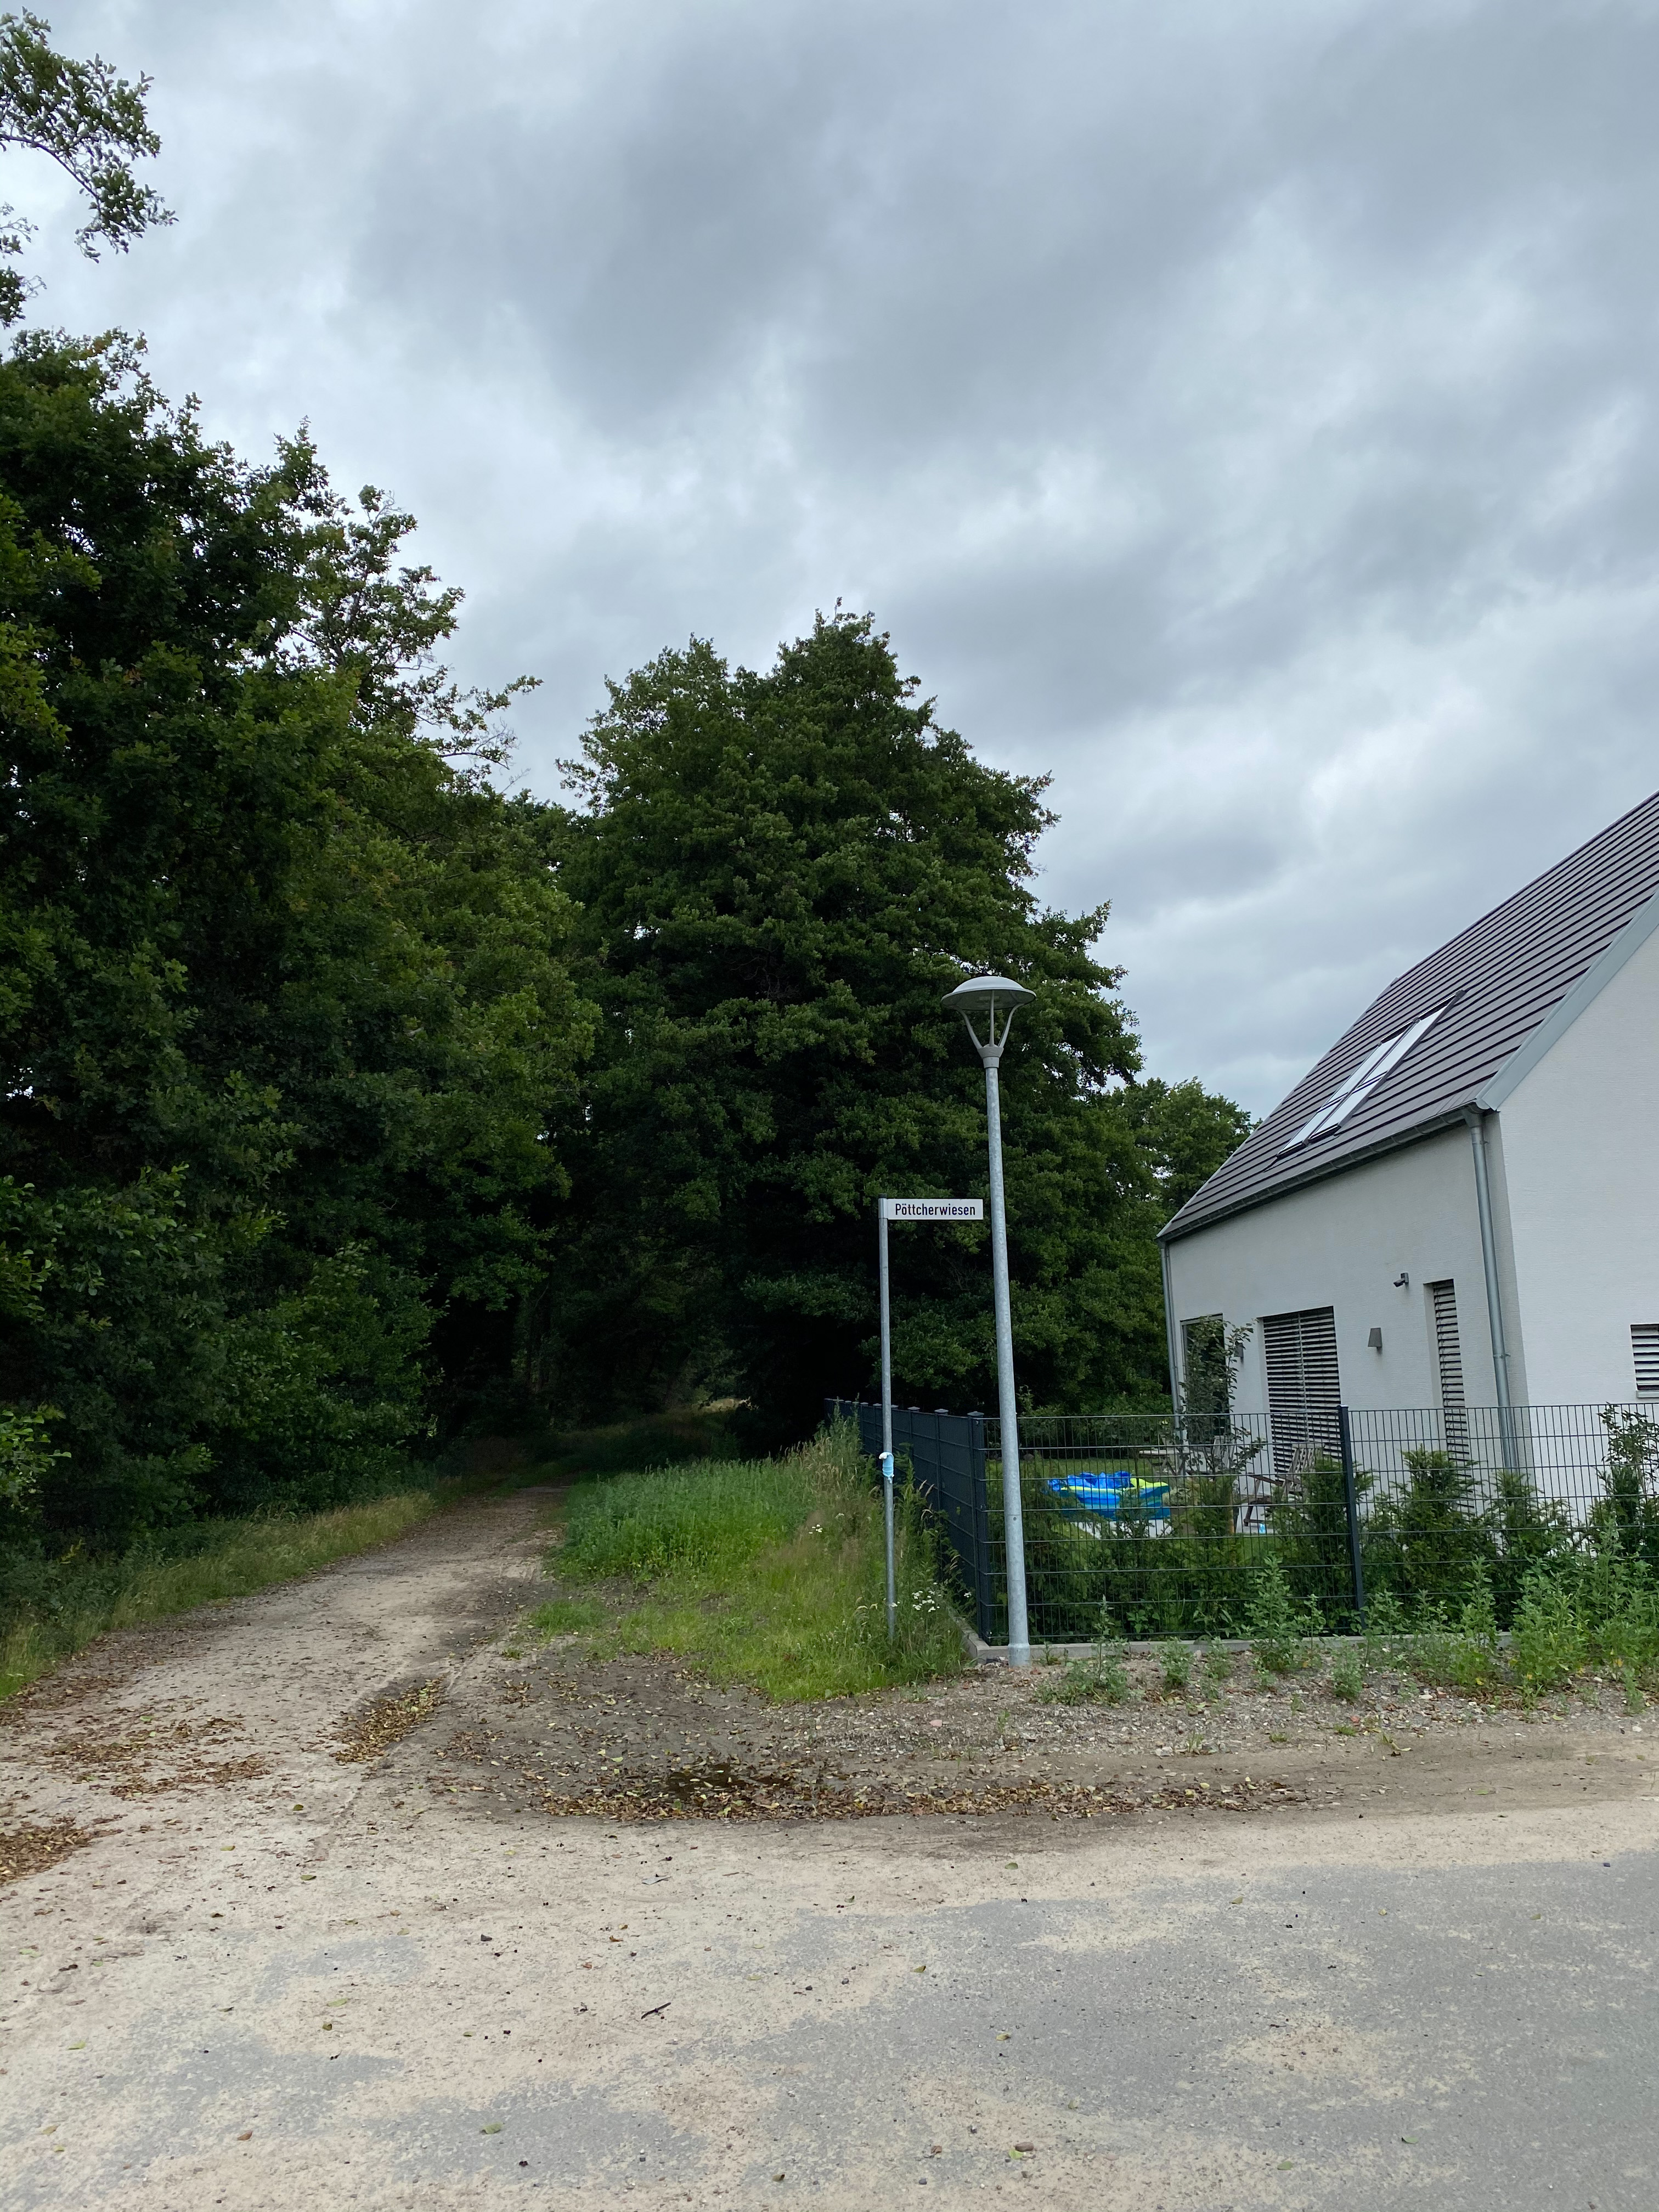tree: (552, 596, 1147, 1437), (0, 326, 380, 1529), (214, 484, 608, 1465), (0, 5, 179, 327), (1079, 1076, 1265, 1216)
